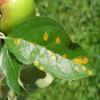Apple rust leaf: (5, 19, 96, 82)
